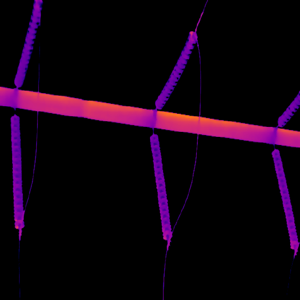insulator: (154, 28, 198, 111), (270, 146, 300, 251), (11, 0, 44, 84), (148, 131, 173, 241), (9, 114, 25, 230), (275, 91, 300, 127)
